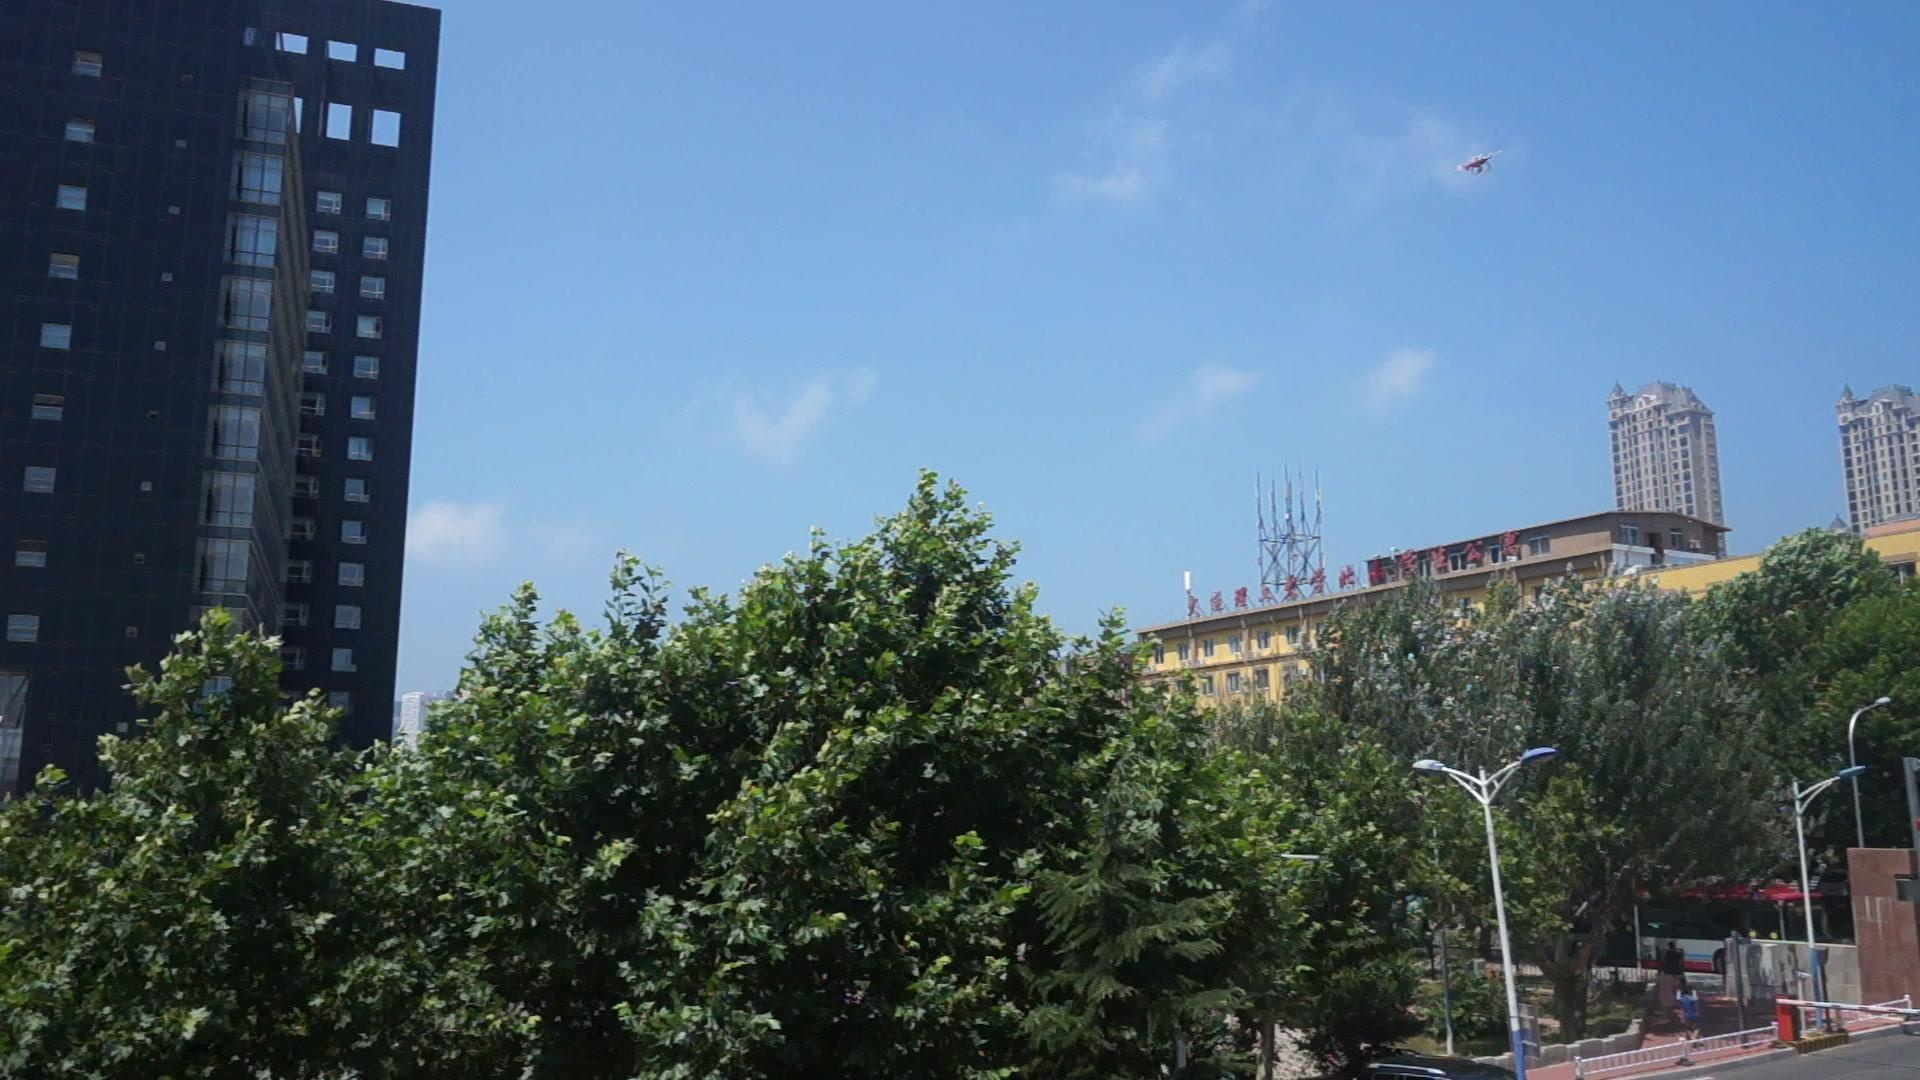UAV: (1456, 150, 1505, 175)
